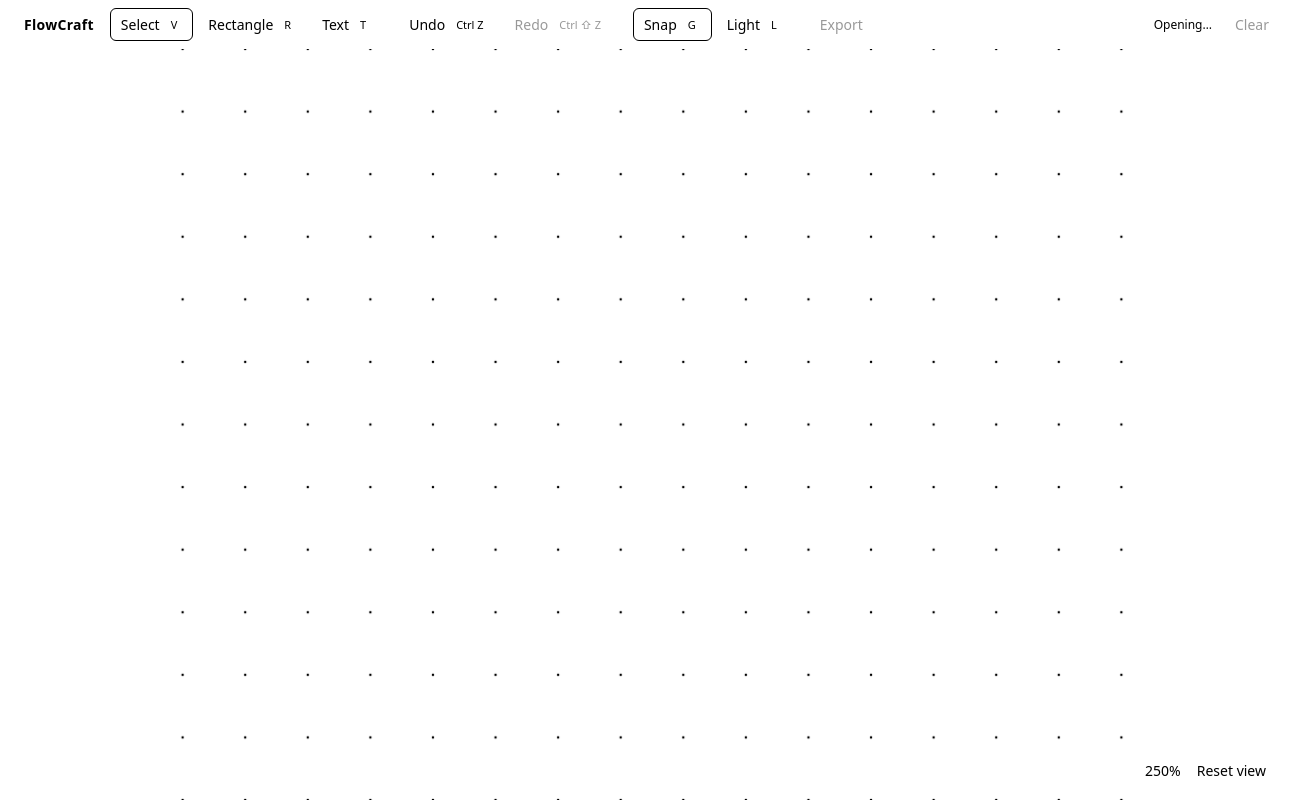
Test: viewport chrome › shows the zoom level and resets the view on demand
The image size is (1304, 800).
Expected: the text with test id "zoom-value" reads "250%", [1145,761,1181,780]
Click the button "Reset view". click: (1231, 770)
box: [1189,757,1274,784]
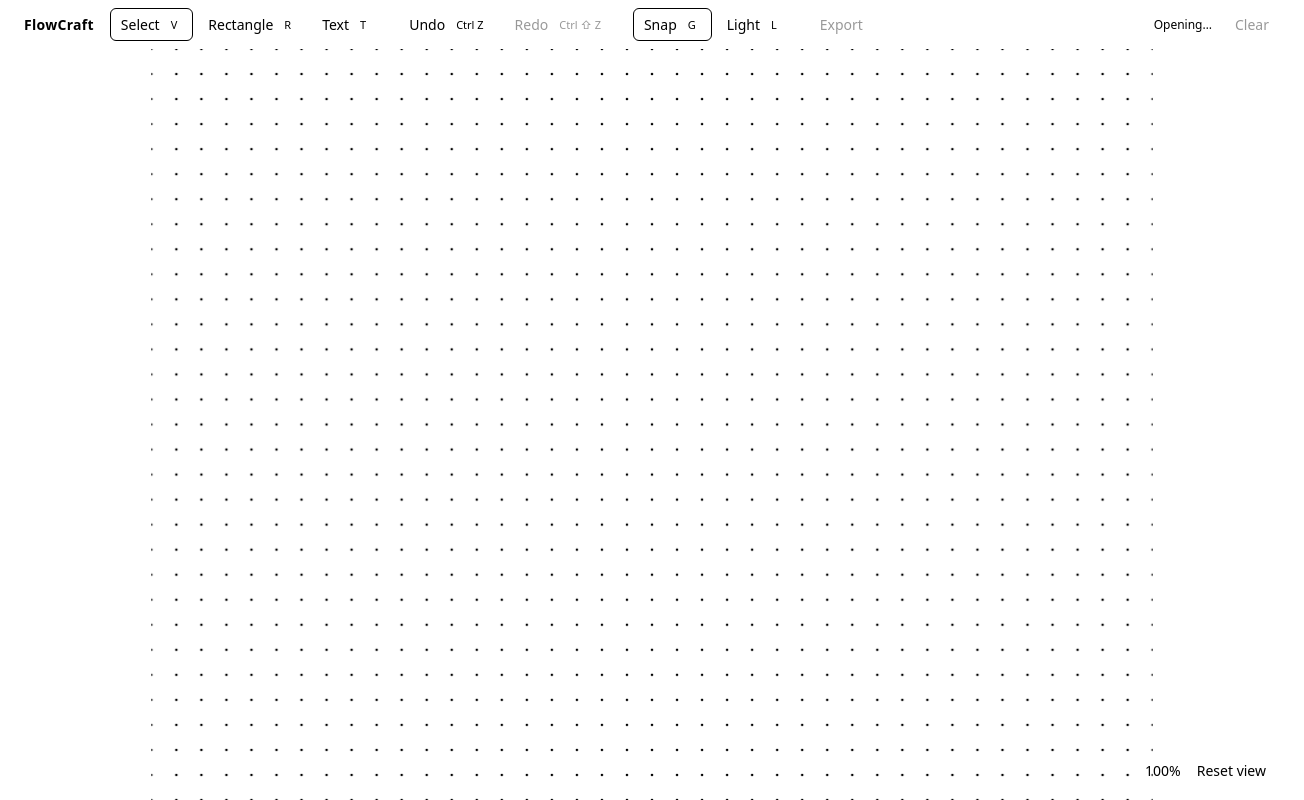
Expected: the text with test id "zoom-value" reads "100%", [1145,761,1181,780]
